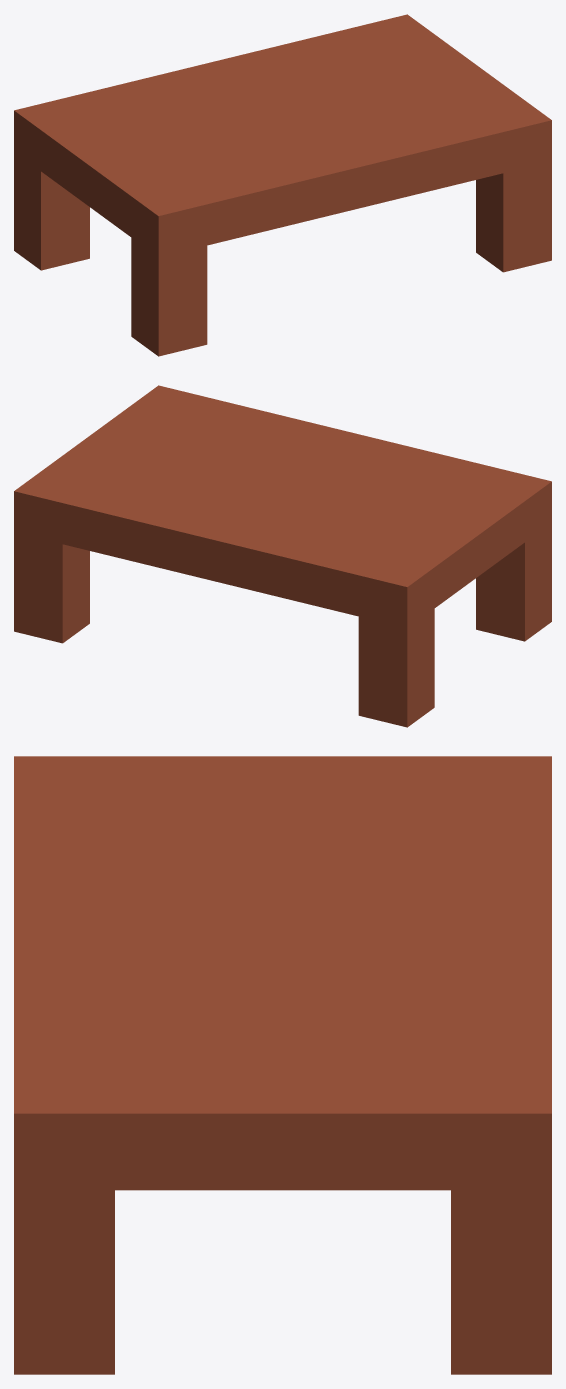
Rendered from coffee_table.fbx.
3 renders of one model, top to bottom at view 1: azimuth 30°, elevation 25°; view 2: azimuth 150°, elevation 25°; view 3: azimuth 270°, elevation 25°, orthographic. The views are drawn at different scales.
Parts seen in each view (by area): view 1: pCube1; view 2: pCube1; view 3: pCube1.
Part boxes in pixels (<box>): pCube1: <box>14,14,551,356</box>; pCube1: <box>14,385,551,727</box>; pCube1: <box>14,756,551,1374</box>.
Size of the model in its own units: 13.75 by 4.69 by 8.75.
Materials: 1 (1 with a texture image).
